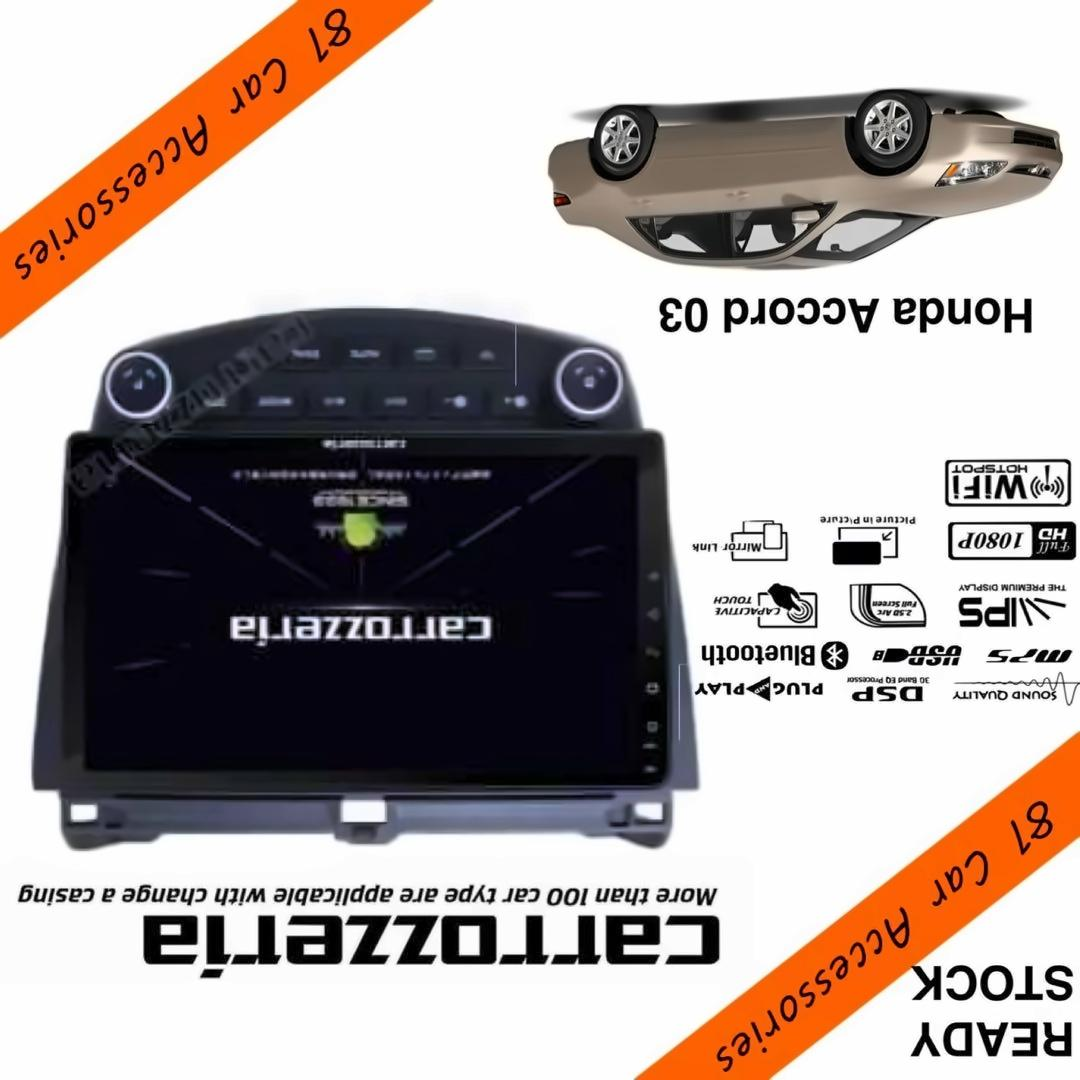Car hood: (881, 175, 1055, 221)
Fender - -F-L-: (842, 116, 936, 215)
Fender - -R-L-: (572, 123, 659, 227)
Front bumper: (921, 110, 1065, 163)
Headlight - -L-: (932, 153, 1010, 193)
Passenger-s door - -F-L-: (726, 126, 841, 268)
Passenger-s door - -R-L-: (623, 126, 728, 267)
Rear bumper: (543, 134, 607, 189)
Rear light - -L-: (549, 188, 582, 216)
Side bumper - -L-: (652, 113, 851, 159)
Side mirror - -L-: (783, 205, 826, 228)
